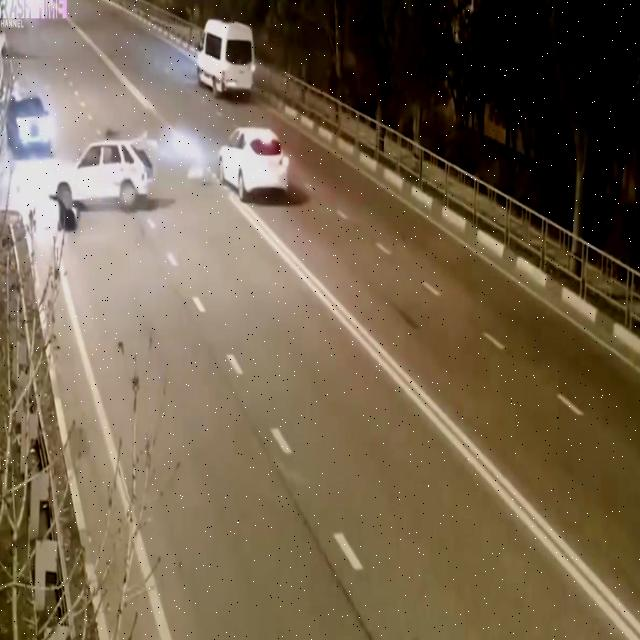accident: (40, 122, 173, 250)
